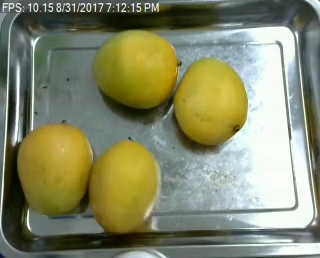Mango: (87, 138, 167, 233), (16, 116, 92, 214), (171, 56, 250, 148), (88, 29, 182, 106)
